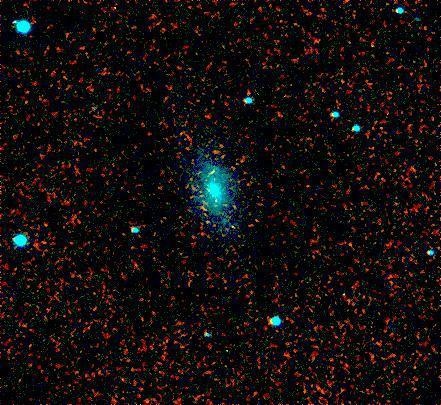star: (198, 158, 228, 188)
